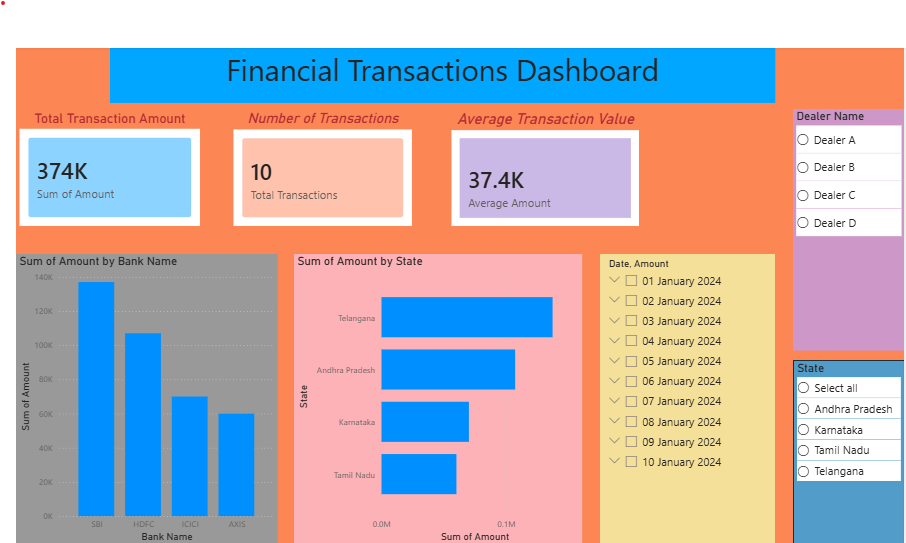

What the dashboard file says about the page in this screenshot:
{"tool":"powerbi","page":{"name":"Page 1","canvas":[1280,720],"ordinal":0},"visuals":[{"type":"cardVisual","title":"Number of Transactions","fields":{"Data":["financial transaction.Total Transactions"]},"box":[308.2,92.2,267.8,172.8],"z":0},{"type":"cardVisual","title":"Average Transaction Value","fields":{"Data":["financial transaction.Average Amount"]},"box":[622.1,92.2,345.6,172.8],"z":1000},{"type":"clusteredColumnChart","fields":{"Category":["financial transaction.Bank Name"],"Y":["Sum(financial transaction.Amount)"]},"box":[0,299.5,377.3,420.5],"z":2000},{"type":"clusteredBarChart","fields":{"Category":["financial transaction.State"],"Y":["Sum(financial transaction.Amount)"]},"box":[400.3,299.5,414.7,420.5],"z":3000},{"type":"cardVisual","title":"Total Transaction Amount","fields":{"Data":["Sum(financial transaction.Amount)"]},"box":[0,92.2,270.7,172.8],"z":4000},{"type":"slicer","fields":{"Values":["financial transaction.Date","financial transaction.Amount"]},"box":[841,299.5,252,420.5],"z":5000},{"type":"listSlicer","fields":{"Values":["financial transaction.State"]},"box":[1118.9,452.2,161.3,267.8],"z":6000},{"type":"listSlicer","fields":{"Values":["financial transaction.Dealer Name"]},"box":[1118.9,90.7,161.3,348.5],"z":7000},{"type":"textbox","box":[135.4,0,957.6,82.1],"z":8000}]}

Visuals, with their boxes on the page's 1280x720 design canvas (x1, y1, x2, y2). These are canvas units, not pixel positions in the 906x543 screenshot, which may show the page scaled, cropped or inside an application window:
"Number of Transactions" cardVisual: [x1=308, y1=92, x2=576, y2=265]
"Average Transaction Value" cardVisual: [x1=622, y1=92, x2=968, y2=265]
clusteredColumnChart - financial transaction.Bank Name x Sum(financial transaction.Amount): [x1=0, y1=300, x2=377, y2=720]
clusteredBarChart - financial transaction.State x Sum(financial transaction.Amount): [x1=400, y1=300, x2=815, y2=720]
"Total Transaction Amount" cardVisual: [x1=0, y1=92, x2=271, y2=265]
slicer - financial transaction.Date x financial transaction.Amount: [x1=841, y1=300, x2=1093, y2=720]
listSlicer - financial transaction.State: [x1=1119, y1=452, x2=1280, y2=720]
listSlicer - financial transaction.Dealer Name: [x1=1119, y1=91, x2=1280, y2=439]
textbox: [x1=135, y1=0, x2=1093, y2=82]
